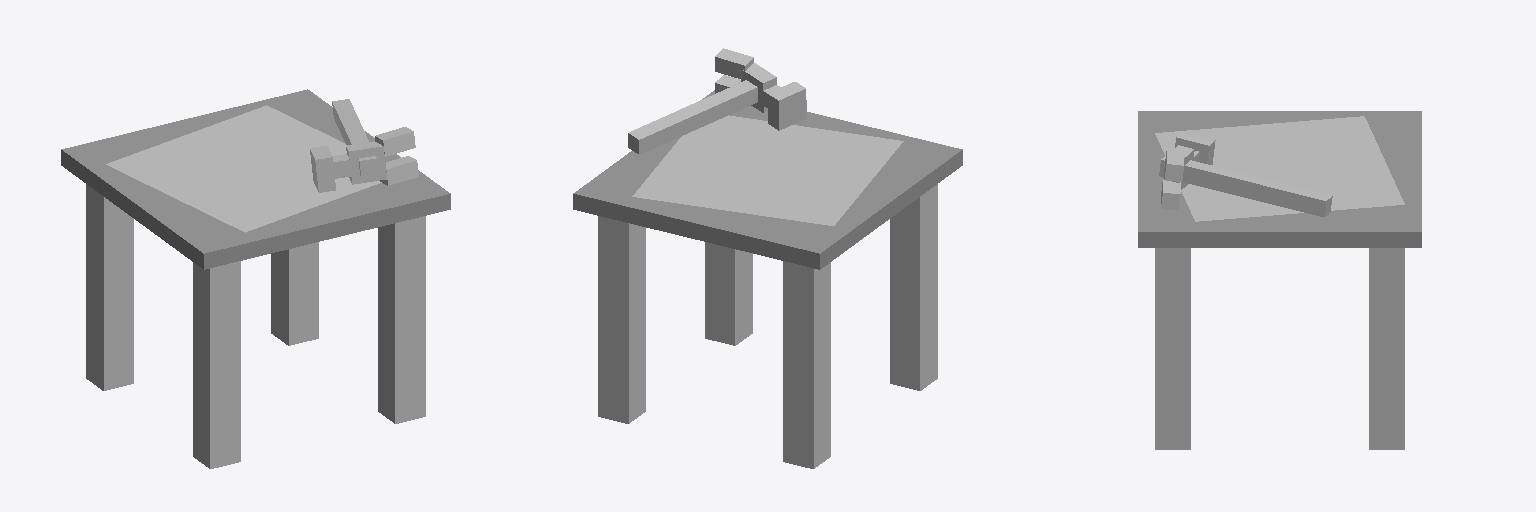
The model's file is engineering_station.obj.
The picture shows the model from 3 angles: view 1: azimuth 30°, elevation 25°; view 2: azimuth 150°, elevation 25°; view 3: azimuth 270°, elevation 25°; orthographic projection.
Visible parts, largest first — view 1: Top_Cube, Paper_Plane, Leg_1_Cube.001, Leg_3_Cube.003, Leg_2_Cube.002, Leg_4_Cube.004, Cube.005_Cube.011, Cube_Cube.005, Cube.004_Cube.010, Cube.002_Cube.008, Cube.001_Cube.006; view 2: Paper_Plane, Top_Cube, Leg_2_Cube.002, Leg_4_Cube.004, Leg_1_Cube.001, Leg_3_Cube.003, Cube.005_Cube.011, Cube.004_Cube.010, Cube.002_Cube.008, Cube_Cube.005; view 3: Top_Cube, Paper_Plane, Leg_4_Cube.004, Leg_3_Cube.003, Cube.005_Cube.011, Cube.004_Cube.010, Cube.002_Cube.008, Cube.001_Cube.006.
Part boxes in pixels (x1,y1,x2,y2): Top_Cube: (61,89,450,269); Paper_Plane: (106,105,381,232); Leg_1_Cube.001: (193,261,240,468); Leg_3_Cube.003: (378,216,425,423); Leg_2_Cube.002: (86,184,133,390); Leg_4_Cube.004: (271,242,318,345); Cube.005_Cube.011: (332,99,378,177); Cube_Cube.005: (346,141,386,184); Cube.004_Cube.010: (310,145,335,192); Cube.002_Cube.008: (375,127,415,156); Cube.001_Cube.006: (380,156,418,185); Paper_Plane: (632,115,903,225); Top_Cube: (573,90,962,269); Leg_2_Cube.002: (783,261,830,468); Leg_4_Cube.004: (598,216,645,423); Leg_1_Cube.001: (890,184,937,390); Leg_3_Cube.003: (705,242,752,345); Cube.005_Cube.011: (628,80,757,154); Cube.004_Cube.010: (767,82,806,130); Cube.002_Cube.008: (715,48,753,79); Cube_Cube.005: (741,63,776,112); Top_Cube: (1138,111,1421,247); Paper_Plane: (1155,116,1404,221); Leg_4_Cube.004: (1369,248,1404,449); Leg_3_Cube.003: (1155,248,1190,449); Cube.005_Cube.011: (1159,156,1332,217); Cube.004_Cube.010: (1175,132,1215,164); Cube.002_Cube.008: (1164,151,1183,181); Cube.001_Cube.006: (1161,179,1180,210).
Size of the model in its own units: 1 by 1.1 by 1.